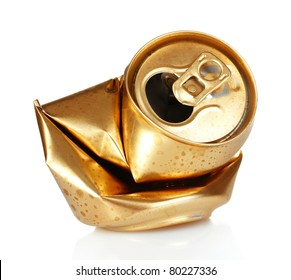can: (33, 31, 258, 234)
